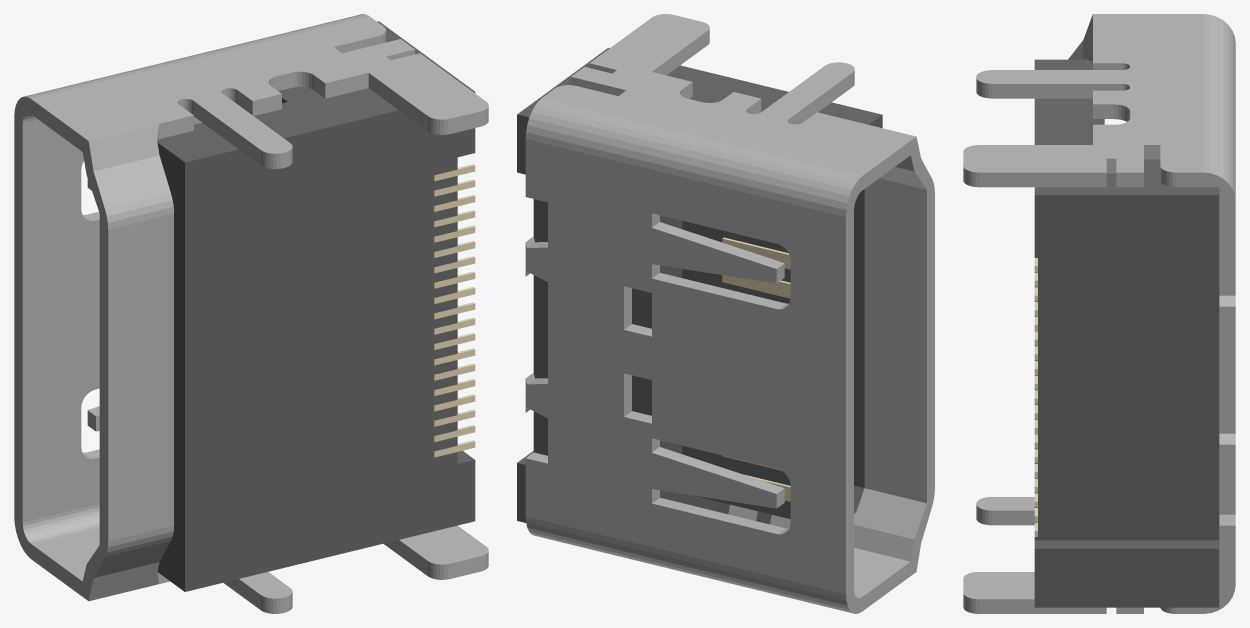
Rendered from HDMI_A_Molex_208658-1001_Horizontal.glb.
3 views of the same model, side by side, from view 1: azimuth 30°, elevation 25°; view 2: azimuth 150°, elevation 25°; view 3: azimuth 270°, elevation 25° (orthographic). The views are drawn at different scales.
Visible parts, largest first — view 1: Shape_IndexedFaceSet.166, Shape_IndexedFaceSet.049, Shape_IndexedFaceSet.062, Shape_IndexedFaceSet.011, Shape_IndexedFaceSet.069, Shape_IndexedFaceSet.070, Shape_IndexedFaceSet.157, Shape_IndexedFaceSet.090, Shape_IndexedFaceSet.151, Shape_IndexedFaceSet.066, Shape_IndexedFaceSet.064, Shape_IndexedFaceSet.316 (+12 smaller); view 2: Shape_IndexedFaceSet, Shape_IndexedFaceSet.060, Shape_IndexedFaceSet.062, Shape_IndexedFaceSet.013, Shape_IndexedFaceSet.011, Shape_IndexedFaceSet.012, Shape_IndexedFaceSet.151, Shape_IndexedFaceSet.124, Shape_IndexedFaceSet.058, Shape_IndexedFaceSet.090, Shape_IndexedFaceSet.094, Shape_IndexedFaceSet.092 (+17 smaller); view 3: Shape_IndexedFaceSet.071, Shape_IndexedFaceSet.062, Shape_IndexedFaceSet.165, Shape_IndexedFaceSet.171, Shape_IndexedFaceSet.296, Shape_IndexedFaceSet.013, Shape_IndexedFaceSet.162, Shape_IndexedFaceSet.151, Shape_IndexedFaceSet.090, Shape_IndexedFaceSet.076, Shape_IndexedFaceSet.015, Shape_IndexedFaceSet.316 (+16 smaller).
Part boxes in pixels (bbox=[...]): Shape_IndexedFaceSet.166: bbox=[185, 92, 475, 591]; Shape_IndexedFaceSet.049: bbox=[22, 117, 201, 522]; Shape_IndexedFaceSet.062: bbox=[31, 16, 426, 140]; Shape_IndexedFaceSet.011: bbox=[14, 96, 108, 600]; Shape_IndexedFaceSet.069: bbox=[108, 369, 173, 541]; Shape_IndexedFaceSet.070: bbox=[108, 213, 173, 385]; Shape_IndexedFaceSet.157: bbox=[157, 142, 184, 591]; Shape_IndexedFaceSet.090: bbox=[254, 87, 398, 138]; Shape_IndexedFaceSet.151: bbox=[369, 58, 488, 119]; Shape_IndexedFaceSet.066: bbox=[93, 155, 170, 209]; Shape_IndexedFaceSet.064: bbox=[88, 124, 159, 171]; Shape_IndexedFaceSet.316: bbox=[399, 525, 488, 564]; Shape_IndexedFaceSet: bbox=[525, 139, 845, 594]; Shape_IndexedFaceSet.060: bbox=[864, 178, 926, 503]; Shape_IndexedFaceSet.062: bbox=[542, 58, 916, 176]; Shape_IndexedFaceSet.013: bbox=[525, 98, 861, 216]; Shape_IndexedFaceSet.011: bbox=[846, 136, 934, 613]; Shape_IndexedFaceSet.012: bbox=[525, 516, 853, 613]; Shape_IndexedFaceSet.151: bbox=[596, 14, 709, 71]; Shape_IndexedFaceSet.124: bbox=[854, 189, 864, 487]; Shape_IndexedFaceSet.058: bbox=[854, 488, 926, 539]; Shape_IndexedFaceSet.090: bbox=[667, 65, 788, 111]; Shape_IndexedFaceSet.094: bbox=[682, 220, 790, 303]; Shape_IndexedFaceSet.092: bbox=[682, 445, 790, 519]; Shape_IndexedFaceSet.071: bbox=[1071, 254, 1219, 540]; Shape_IndexedFaceSet.062: bbox=[1093, 14, 1203, 172]; Shape_IndexedFaceSet.165: bbox=[1034, 548, 1219, 607]; Shape_IndexedFaceSet.171: bbox=[1034, 195, 1219, 254]; Shape_IndexedFaceSet.296: bbox=[1034, 254, 1055, 540]; Shape_IndexedFaceSet.013: bbox=[1203, 14, 1235, 199]; Shape_IndexedFaceSet.162: bbox=[1055, 254, 1071, 540]; Shape_IndexedFaceSet.151: bbox=[963, 145, 1092, 172]; Shape_IndexedFaceSet.090: bbox=[1034, 98, 1104, 144]; Shape_IndexedFaceSet.076: bbox=[1034, 159, 1219, 195]; Shape_IndexedFaceSet.015: bbox=[1176, 172, 1235, 260]; Shape_IndexedFaceSet.316: bbox=[963, 572, 1034, 599].
Bounding box in the file's own units: 4.78 × 5.91 × 3.3.
